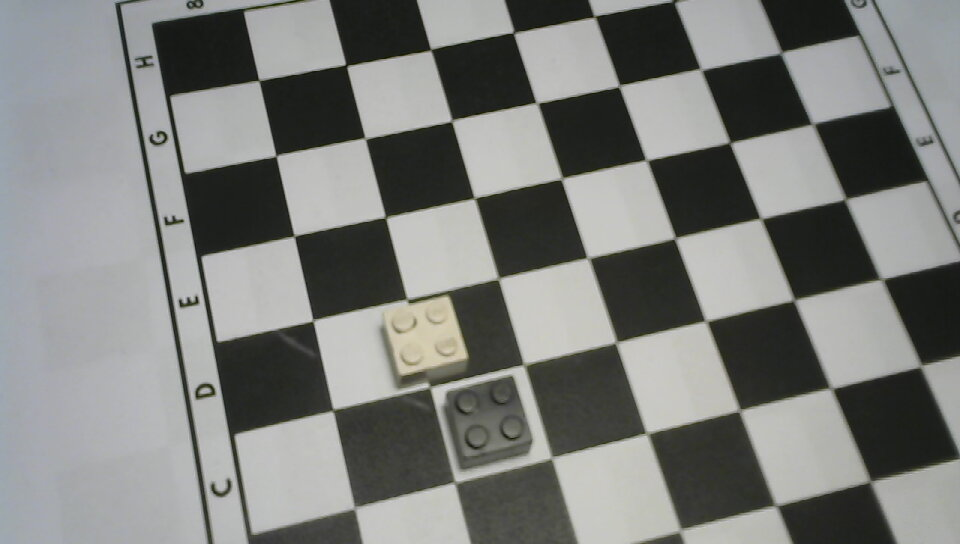wp: (377, 291, 472, 389)
